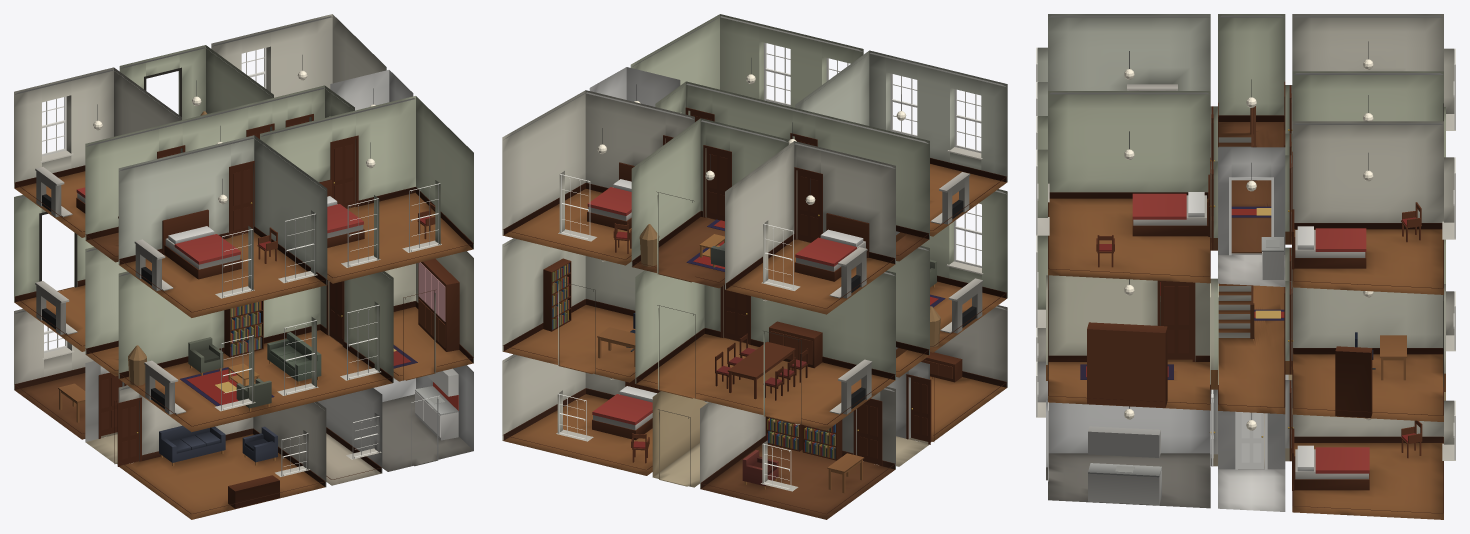
The model's file is lfs-west-i.glb.
3 views of the same model, side by side, from view 1: azimuth 30°, elevation 25°; view 2: azimuth 150°, elevation 25°; view 3: azimuth 270°, elevation 25° (orthographic). The views are drawn at different scales.
Parts seen in each view (by area): view 1: room_bed1-plaster, room_bed2-plaster, room_living-plaster, room_landing-plaster, room_bed3-plaster, room_living-boards, room_bed4-plaster, room_lg-media-boards, room_living-fabric, room_bed1-boards, room_bed2-boards, room_sitting-plaster (+47 smaller); view 2: room_bed4-plaster, room_dining-plaster, room_bed3-plaster, room_bed1-plaster, room_landing-plaster, room_bed2-plaster, room_dining-boards, room_sitting-plaster, room_study-plaster, room_lg-library-boards, room_study-boards, room_lg-library-plaster (+50 smaller); view 3: room_bed2-plaster, room_bed4-plaster, room_bed1-plaster, room_bed2-boards, room_bed3-plaster, room_study-plaster, room_landing-plaster, room_entry-plaster, room_lg-bed5-boards, room_sitting-plaster, room_entry-timber, room_study-boards (+35 smaller).
Boxes of the visible parts, box(x1,y1,x2,y2) form: room_bed1-plaster: box(118, 135, 327, 290); room_bed2-plaster: box(260, 96, 473, 259); room_living-plaster: box(118, 271, 393, 402); room_landing-plaster: box(85, 85, 354, 240); room_bed3-plaster: box(14, 67, 181, 187); room_living-boards: box(119, 330, 392, 432); room_bed4-plaster: box(211, 14, 386, 97); room_lg-media-boards: box(119, 434, 325, 519); room_living-fabric: box(128, 301, 321, 408); room_bed1-boards: box(119, 232, 326, 317); room_bed2-boards: box(327, 192, 473, 283); room_sitting-plaster: box(119, 45, 273, 119); room_bed4-plaster: box(502, 90, 694, 235); room_dining-plaster: box(635, 270, 895, 415); room_bed3-plaster: box(725, 141, 895, 289); room_bed1-plaster: box(795, 50, 1007, 182); room_landing-plaster: box(655, 81, 929, 238); room_bed2-plaster: box(630, 14, 863, 107); room_dining-boards: box(636, 334, 895, 430); room_sitting-plaster: box(631, 118, 788, 273); room_study-plaster: box(502, 238, 644, 365); room_lg-library-boards: box(700, 444, 895, 519); room_study-boards: box(503, 305, 635, 382); room_lg-library-plaster: box(700, 387, 895, 488); room_bed2-plaster: box(1037, 91, 1211, 237); room_bed4-plaster: box(1291, 121, 1454, 231); room_bed1-plaster: box(1037, 14, 1211, 159); room_bed2-boards: box(1048, 198, 1211, 283); room_bed3-plaster: box(1291, 14, 1454, 133); room_study-plaster: box(1291, 281, 1445, 373); room_landing-plaster: box(1213, 14, 1290, 237); room_entry-plaster: box(1046, 275, 1214, 369); room_lg-bed5-boards: box(1291, 443, 1443, 519); room_sitting-plaster: box(1291, 71, 1445, 157); room_entry-timber: box(1048, 275, 1210, 407); room_study-boards: box(1291, 354, 1445, 421).
Bounding box in the file's own units: 11.43 × 10.25 × 11.67.
